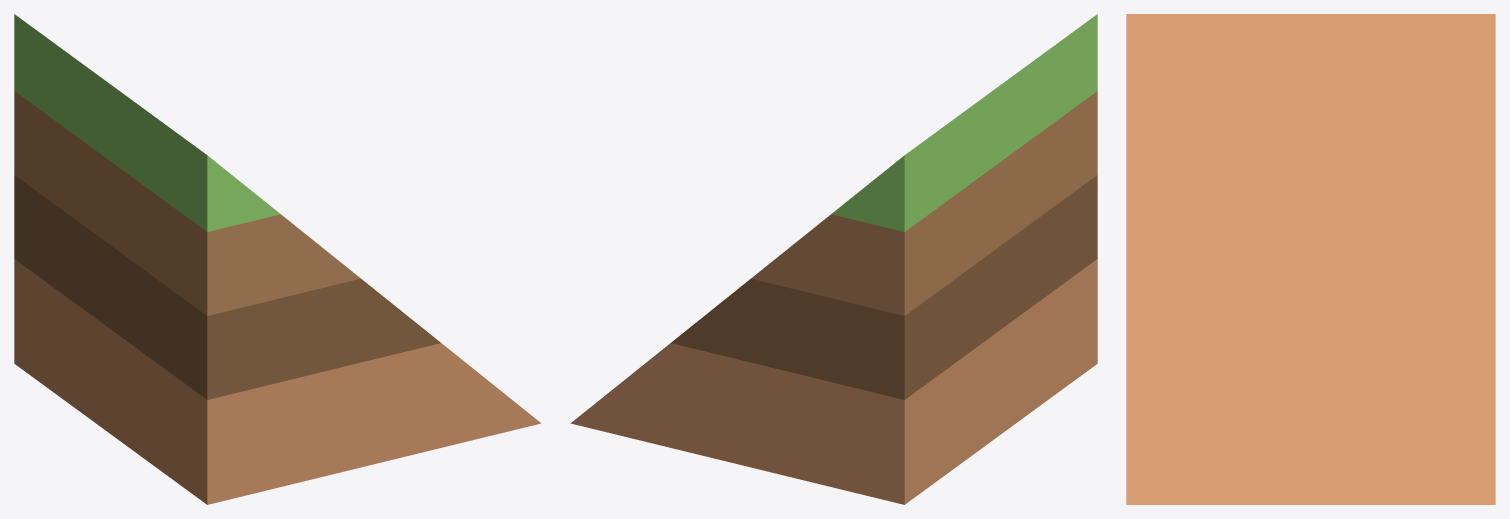
File: Grass_DSlope.glb
3 views of the same model, side by side, from view 1: azimuth 30°, elevation 25°; view 2: azimuth 150°, elevation 25°; view 3: azimuth 270°, elevation 25° (orthographic). The views are drawn at different scales.
Parts seen in each view (by area): view 1: Grass_DSlope_body; view 2: Grass_DSlope_body; view 3: Grass_DSlope_body.
Boxes of the visible parts, bbox=[...] form: Grass_DSlope_body: bbox=[14, 14, 541, 504]; Grass_DSlope_body: bbox=[570, 14, 1097, 504]; Grass_DSlope_body: bbox=[1126, 14, 1495, 504].
Size of the model in its own units: 1 by 1 by 1.
